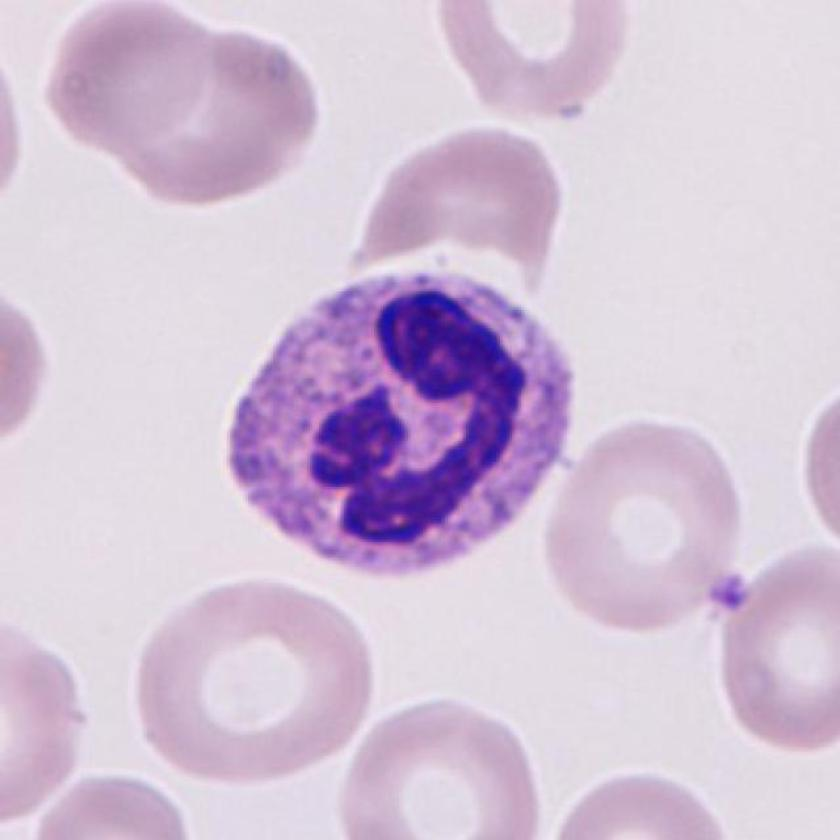neutrophil: (224, 269, 576, 582)
